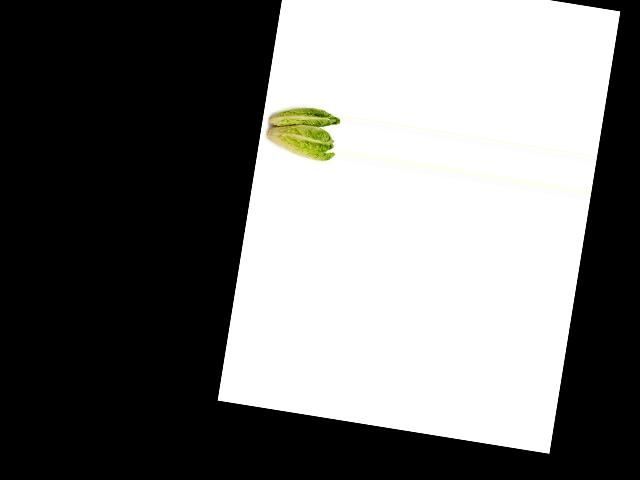lettuce: (263, 94, 343, 137)
